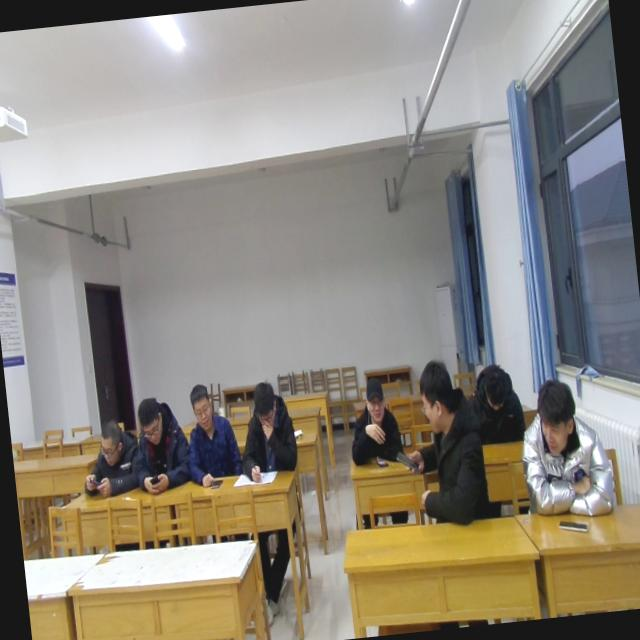bow: (76, 417, 147, 499)
down: (476, 358, 512, 414), (247, 374, 280, 430), (132, 392, 165, 446), (92, 414, 122, 462)
lookup: (184, 381, 217, 436), (362, 372, 388, 422)
sit: (392, 353, 492, 530), (514, 376, 616, 525), (346, 374, 411, 525), (177, 378, 250, 484), (233, 378, 303, 488), (123, 392, 194, 498), (461, 358, 527, 448)
